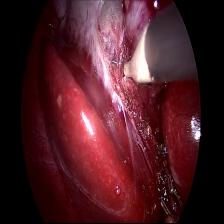Hook: (106, 30, 164, 87)
